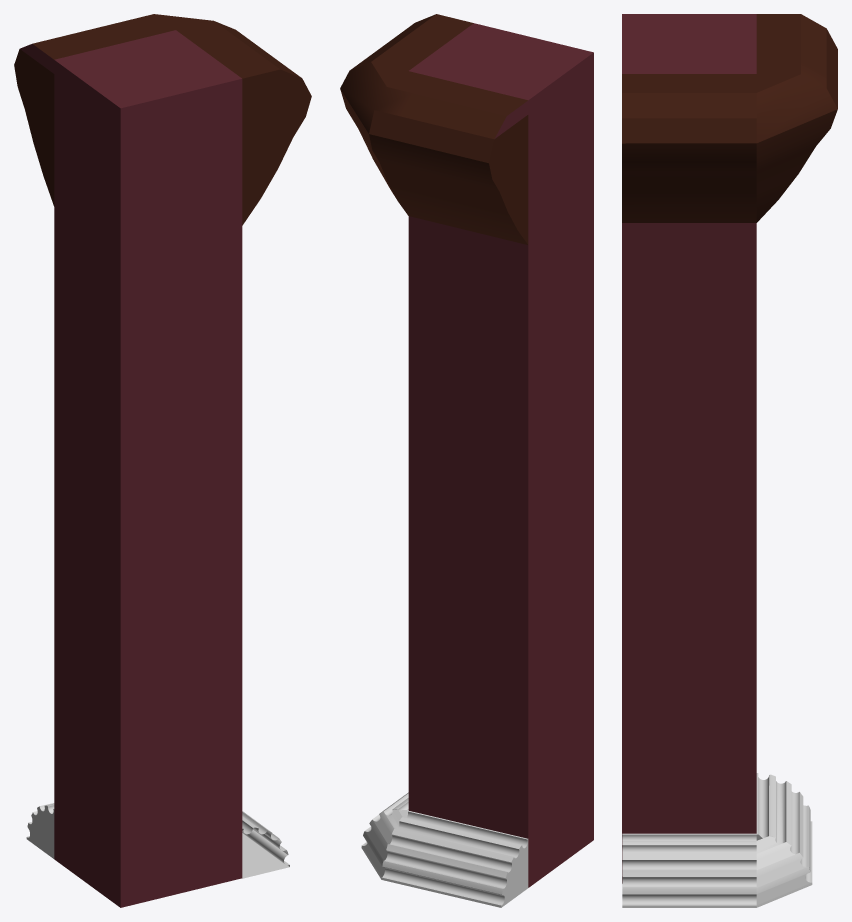
File: pillar.glb
3 renders of one model, left to right at view 1: azimuth 30°, elevation 25°; view 2: azimuth 150°, elevation 25°; view 3: azimuth 270°, elevation 25°, orthographic. The views are drawn at different scales.
Parts seen in each view (by area): view 1: Wand.001; view 2: Wand.001; view 3: Wand.001.
Boxes of the visible parts, x1,y1,x2,y2 form: Wand.001: [14, 14, 311, 907]; Wand.001: [340, 14, 593, 907]; Wand.001: [622, 14, 837, 907].
Bounding box in the file's own units: 1 × 4.01 × 0.9665.
